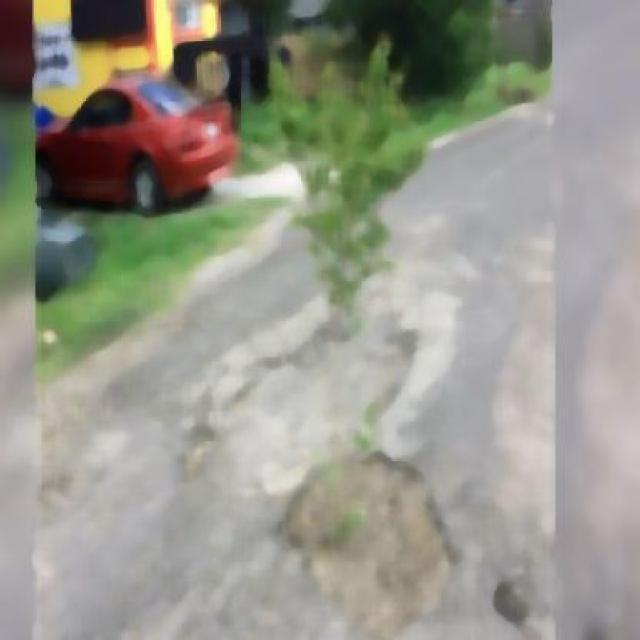Buraco: (264, 445, 465, 640)
